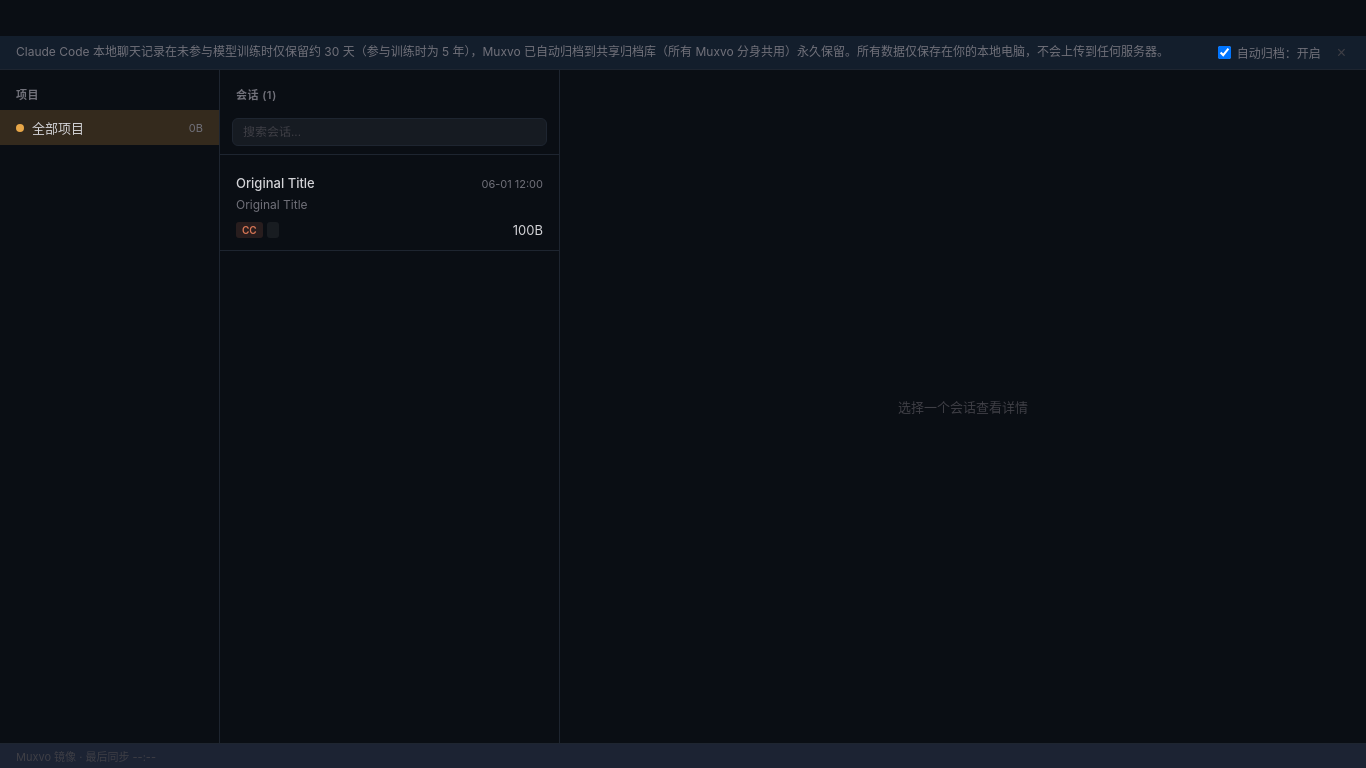
Test case: W8 删除 › 确认删除 → delete 请求带真实 projectHash → removeSession 移卡
Right-click the element with class "session-card".
right_click(390, 207)  # box [220,163,559,251]
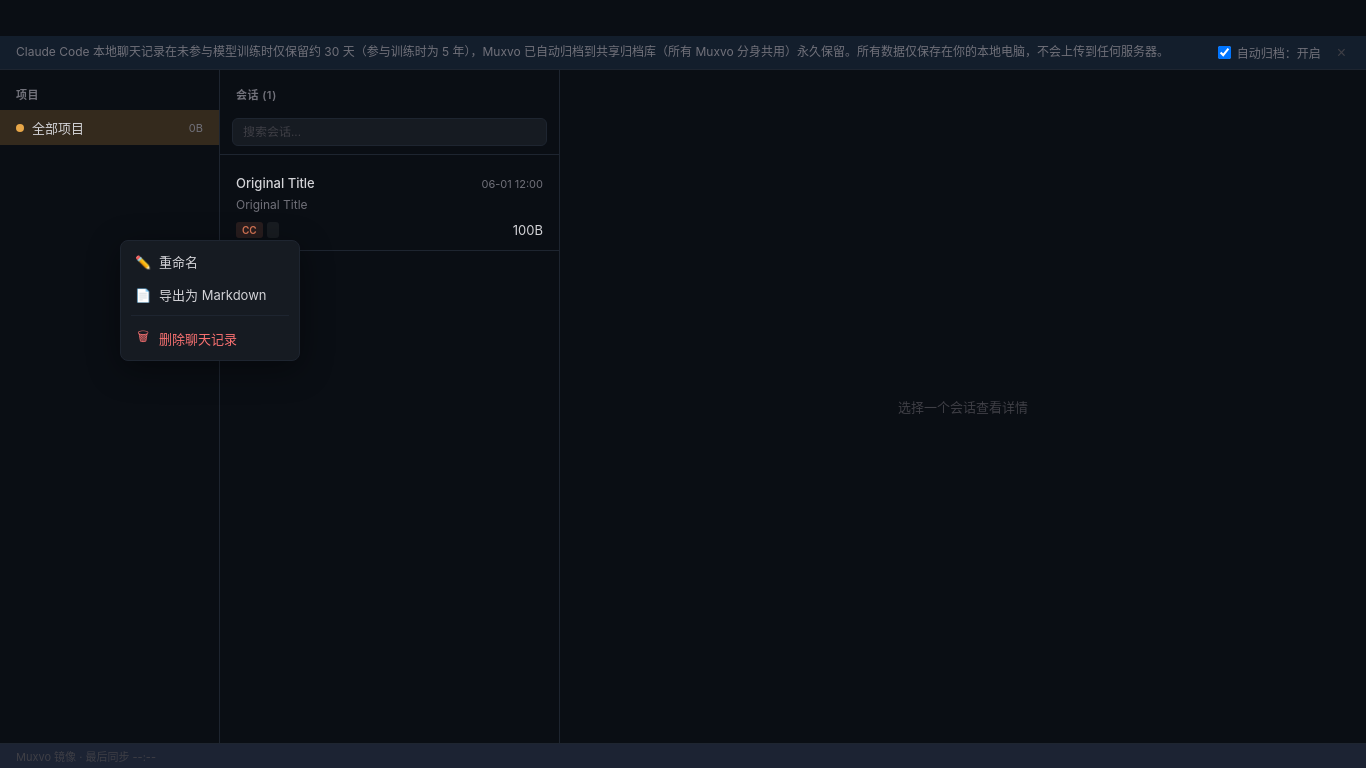
Click the menu item with class "session-context-menu__item" showing "🗑 删除聊天记录".
click(210, 338)  # box [125,320,295,356]
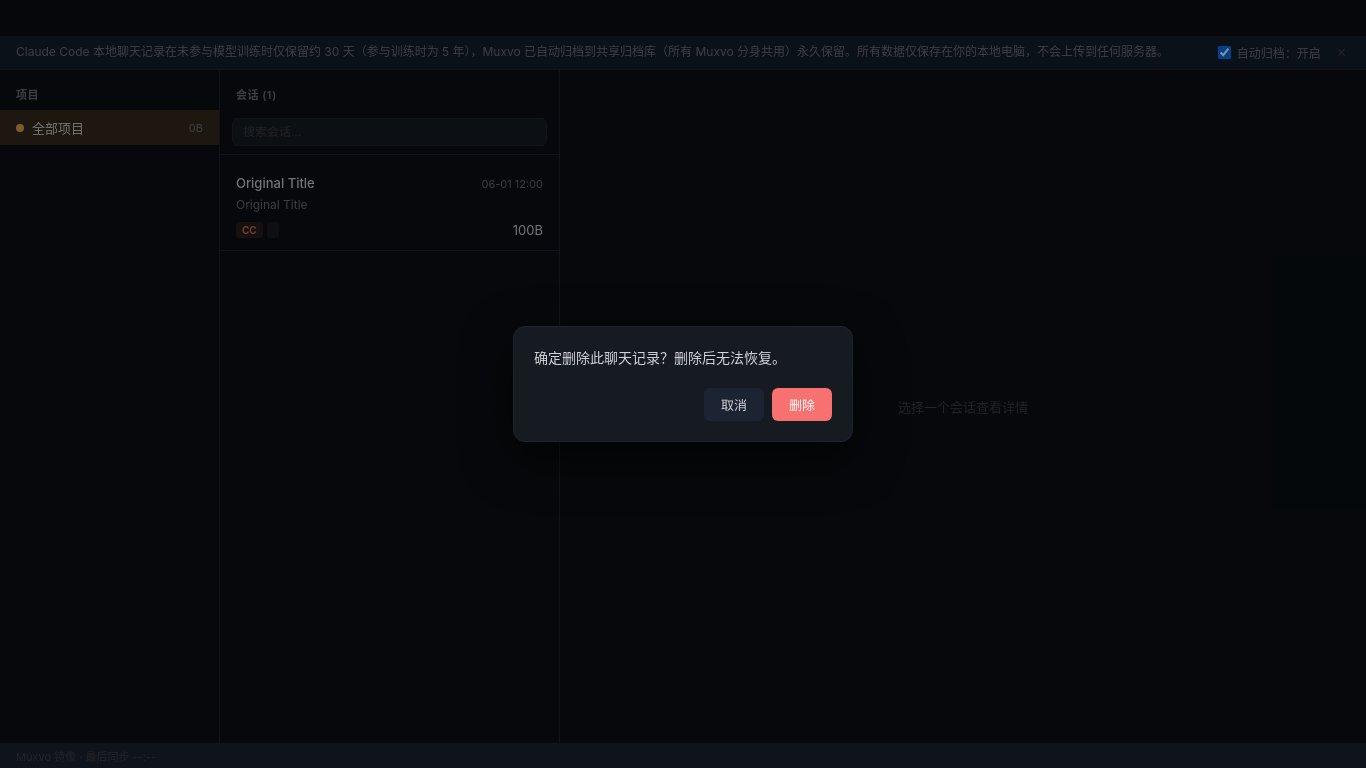
Expected: the dialog with class "chat-confirm-modal__dialog" is shown, [513,326,853,442]
Click the button with class "chat-confirm-modal__btn--danger".
click(802, 404)  # box [772,388,832,421]
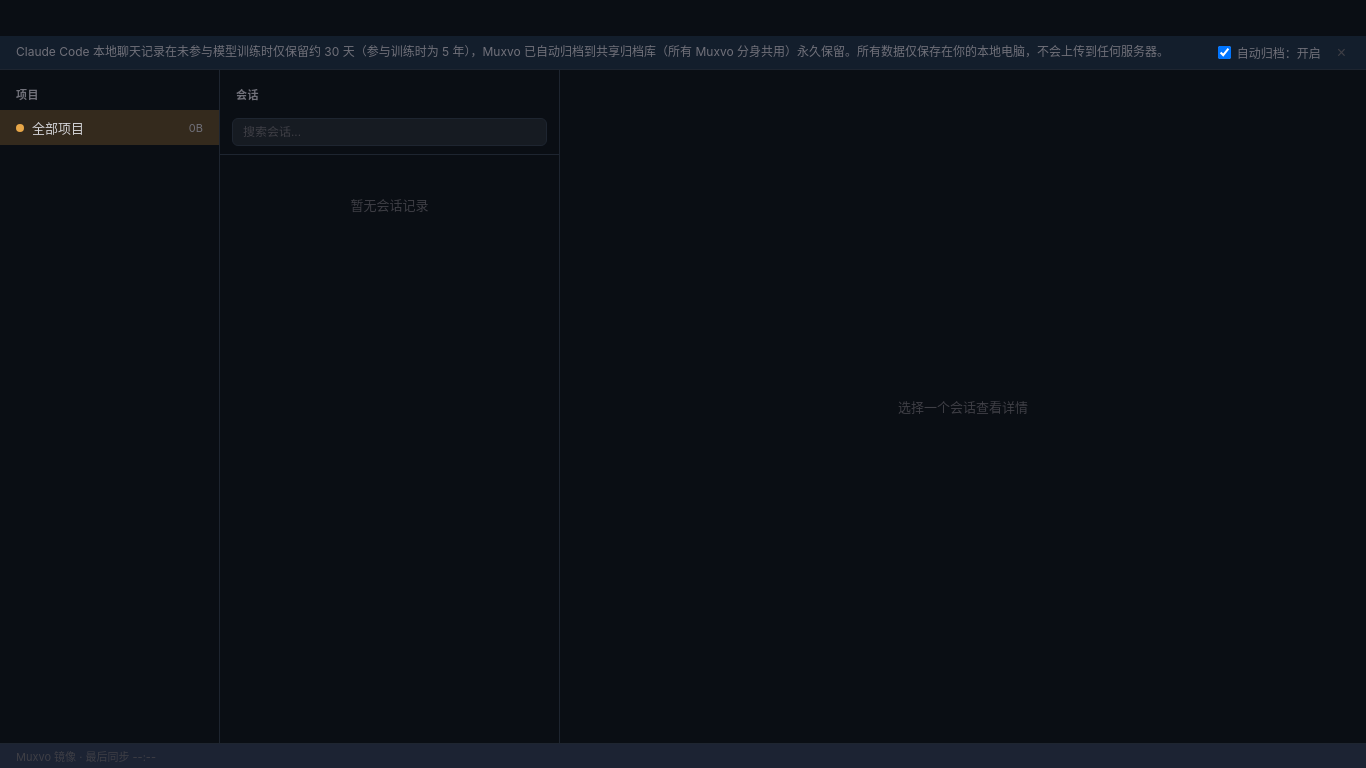
Expected: the element with class "session-card" is gone
Expected: the dialog with class "chat-confirm-modal__dialog" is gone
